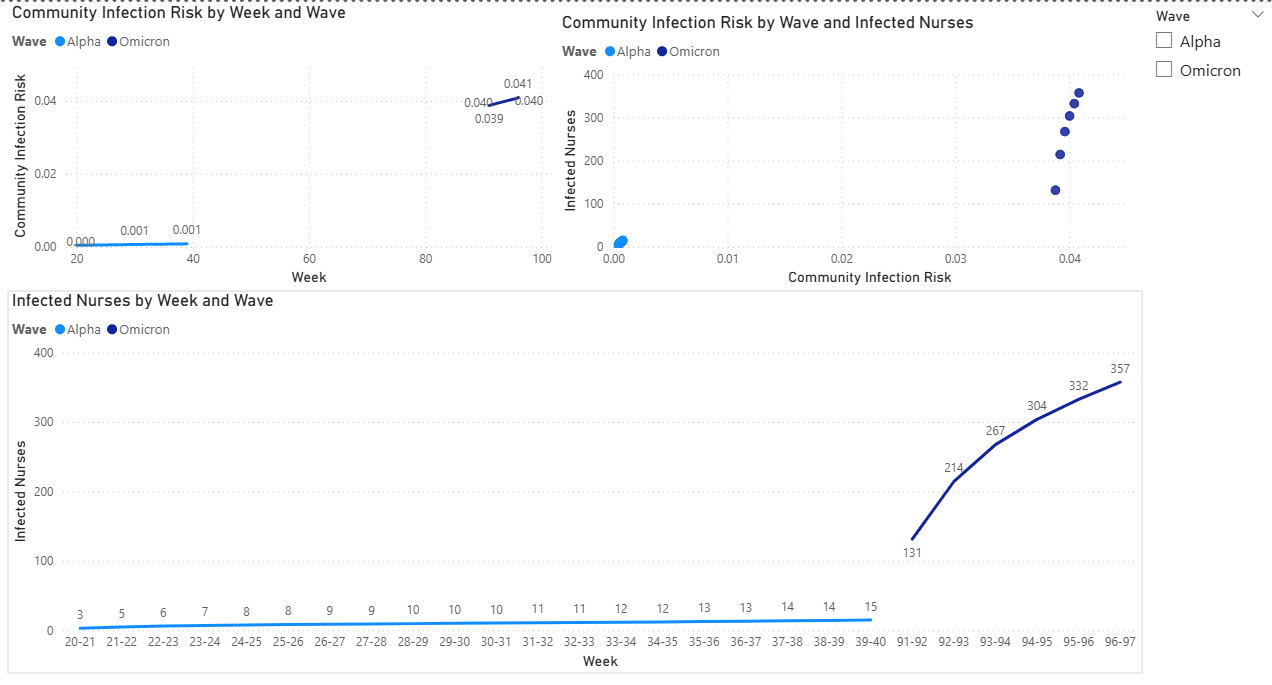

What the dashboard file says about the page in this screenshot:
{"tool":"powerbi","page":{"name":"Infection & Seroprevalence","canvas":[1280,720],"ordinal":1},"visuals":[{"type":"lineChart","fields":{"Category":["seroprev_all.WeekStart"],"Y":["Sum(seroprev_all.SeroprevIncrement)"],"Series":["seroprev_all.Wave"]},"box":[10.1,0,549.5,288.2],"z":0},{"type":"lineChart","fields":{"Category":["infected_nurses.Week"],"Y":["Sum(infected_nurses.InfectedNurses)"],"Series":["infected_nurses.Wave"]},"box":[10.1,288.2,1135.9,383.7],"z":1000},{"type":"scatterChart","fields":{"X":["Sum(seroprev_all.SeroprevIncrement)"],"Y":["infected_nurses.InfectedNurses"],"Series":["seroprev_all.Wave"]},"box":[559.6,10.1,586.4,278.1],"z":2000},{"type":"slicer","fields":{"Values":["seroprev_all.Wave"]},"box":[1146,0,134,95.5],"z":3000}]}

Visuals, with their boxes in screenshot pixels (x1, y1, x2, y2):
lineChart - seroprev_all.WeekStart x Sum(seroprev_all.SeroprevIncrement): [x1=16, y1=13, x2=514, y2=274]
lineChart - infected_nurses.Week x Sum(infected_nurses.InfectedNurses): [x1=16, y1=274, x2=1045, y2=622]
scatterChart - Sum(seroprev_all.SeroprevIncrement) x infected_nurses.InfectedNurses: [x1=514, y1=22, x2=1045, y2=274]
slicer - seroprev_all.Wave: [x1=1045, y1=13, x2=1166, y2=100]
